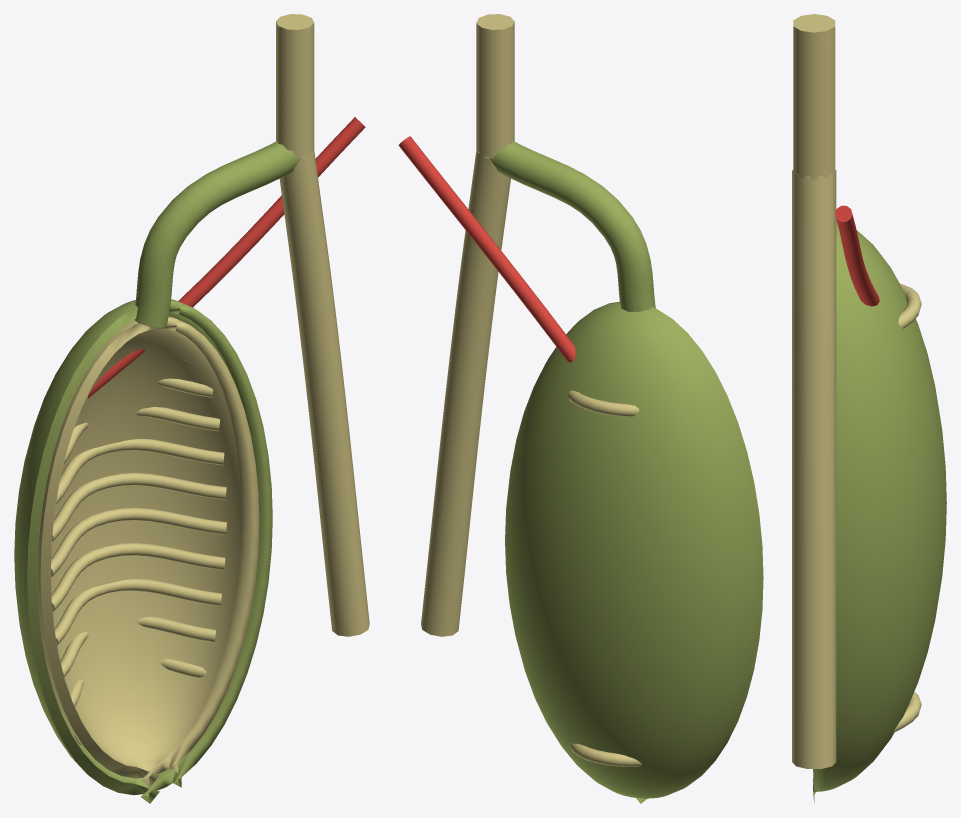
File: gallbladder.81f4dfa5.glb
3 views of the same model, side by side, from view 1: azimuth 30°, elevation 25°; view 2: azimuth 150°, elevation 25°; view 3: azimuth 270°, elevation 25° (orthographic). The views are drawn at different scales.
Parts seen in each view (by area): view 1: Mucosal lining, Gallbladder wall, Common bile duct, Cystic duct, Common hepatic duct, Cystic artery, Mucosal fold 5, Mucosal fold 4, Mucosal fold 6, Mucosal fold 3, Mucosal fold 7, Mucosal fold 2 (+2 smaller); view 2: Gallbladder wall, Common bile duct, Cystic duct, Common hepatic duct, Cystic artery, Mucosal fold 10, Mucosal fold 0; view 3: Gallbladder wall, Common bile duct, Common hepatic duct, Cystic artery, Mucosal fold 10, Mucosal fold 0.
Boxes of the visible parts, box(x1,y1,x2,y2) form: Mucosal lining: box(37, 316, 259, 787); Gallbladder wall: box(14, 299, 272, 803); Common bile duct: box(279, 151, 369, 636); Cystic duct: box(134, 141, 300, 327); Common hepatic duct: box(276, 14, 314, 158); Cystic artery: box(88, 117, 365, 398); Mucosal fold 5: box(51, 507, 226, 576); Mucosal fold 4: box(51, 543, 225, 611); Mucosal fold 6: box(52, 472, 226, 541); Mucosal fold 3: box(54, 578, 221, 644); Mucosal fold 7: box(56, 439, 224, 504); Mucosal fold 2: box(60, 617, 216, 676); Gallbladder wall: box(505, 301, 763, 803); Common bile duct: box(421, 151, 510, 636); Cystic duct: box(490, 141, 655, 311); Common hepatic duct: box(476, 14, 514, 158); Cystic artery: box(398, 136, 575, 362); Mucosal fold 10: box(567, 390, 639, 416); Mucosal fold 0: box(569, 743, 641, 766); Gallbladder wall: box(813, 220, 946, 802); Common bile duct: box(792, 169, 836, 768); Common hepatic duct: box(793, 14, 835, 179); Cystic artery: box(835, 205, 879, 306); Mucosal fold 10: box(898, 283, 921, 328); Mucosal fold 0: box(893, 692, 921, 732).
Size of the model in its own units: 1.87 by 3.8 by 0.6244.
